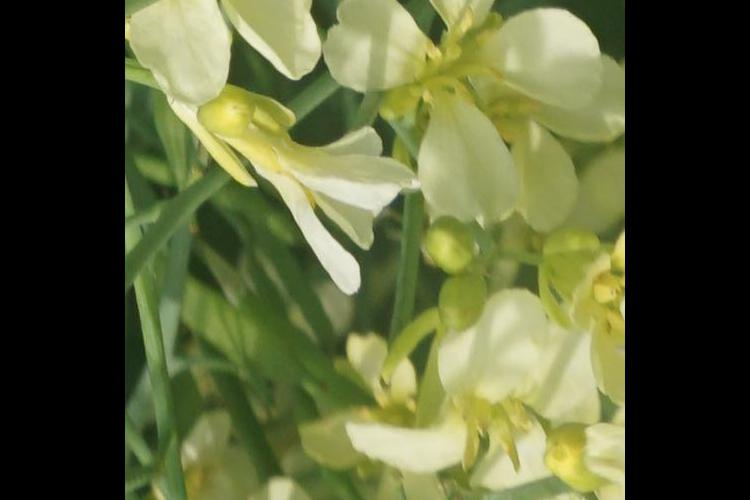bud: (411, 219, 482, 295), (543, 406, 598, 496), (437, 265, 494, 338), (203, 83, 265, 140)
white: (323, 1, 583, 192), (362, 291, 577, 500), (252, 112, 404, 296), (146, 1, 315, 71)
